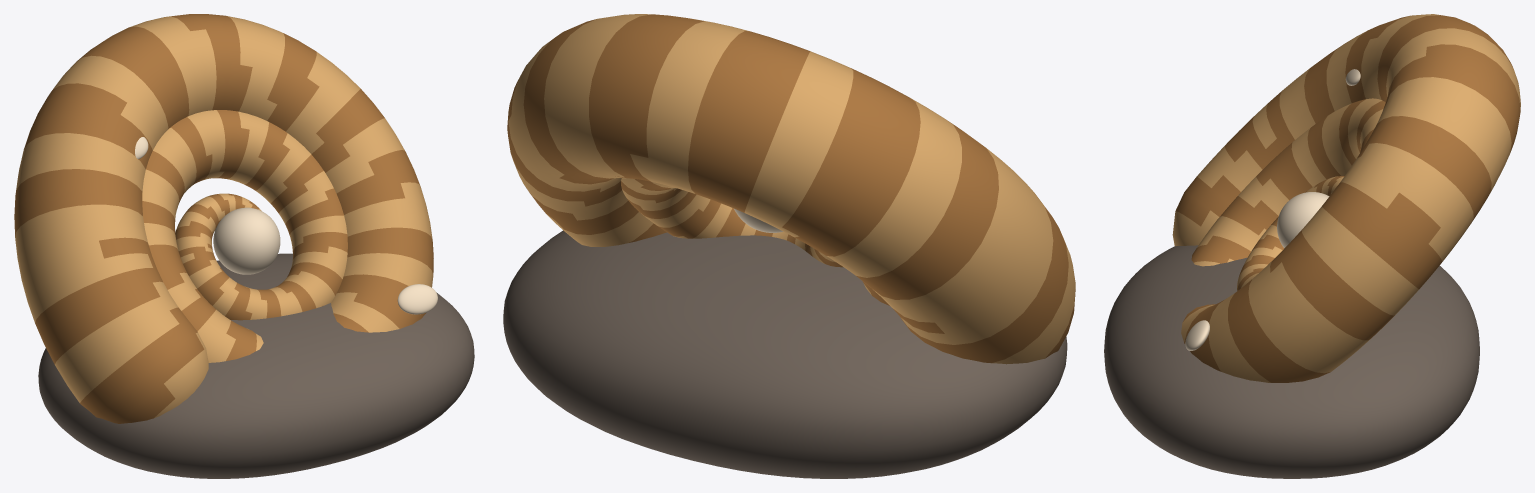
File: amonite.glb
3 renders of one model, left to right at view 1: azimuth 30°, elevation 25°; view 2: azimuth 150°, elevation 25°; view 3: azimuth 270°, elevation 25°, orthographic. The views are drawn at different scales.
Visible parts, largest first — view 1: espiral, roca, ombligo, brillo0; view 2: espiral, roca; view 3: espiral, roca, ombligo, brillo0.
Part boxes in pixels (left/top/right/bottom): espiral: left=14, top=14, right=433, bottom=423; roca: left=38, top=253, right=474, bottom=478; ombligo: left=213, top=207, right=280, bottom=274; brillo0: left=397, top=284, right=437, bottom=314; espiral: left=507, top=14, right=1075, bottom=364; roca: left=503, top=230, right=1067, bottom=478; espiral: left=1172, top=14, right=1520, bottom=382; roca: left=1104, top=245, right=1479, bottom=478; ombligo: left=1277, top=192, right=1329, bottom=248; brillo0: left=1185, top=320, right=1209, bottom=350.
Size of the model in its own units: 0.4151 by 0.3574 by 0.3547.
